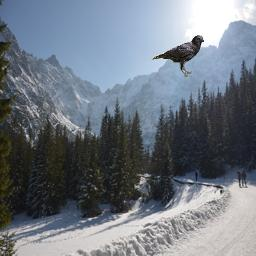Crow: (150, 35, 204, 77)
